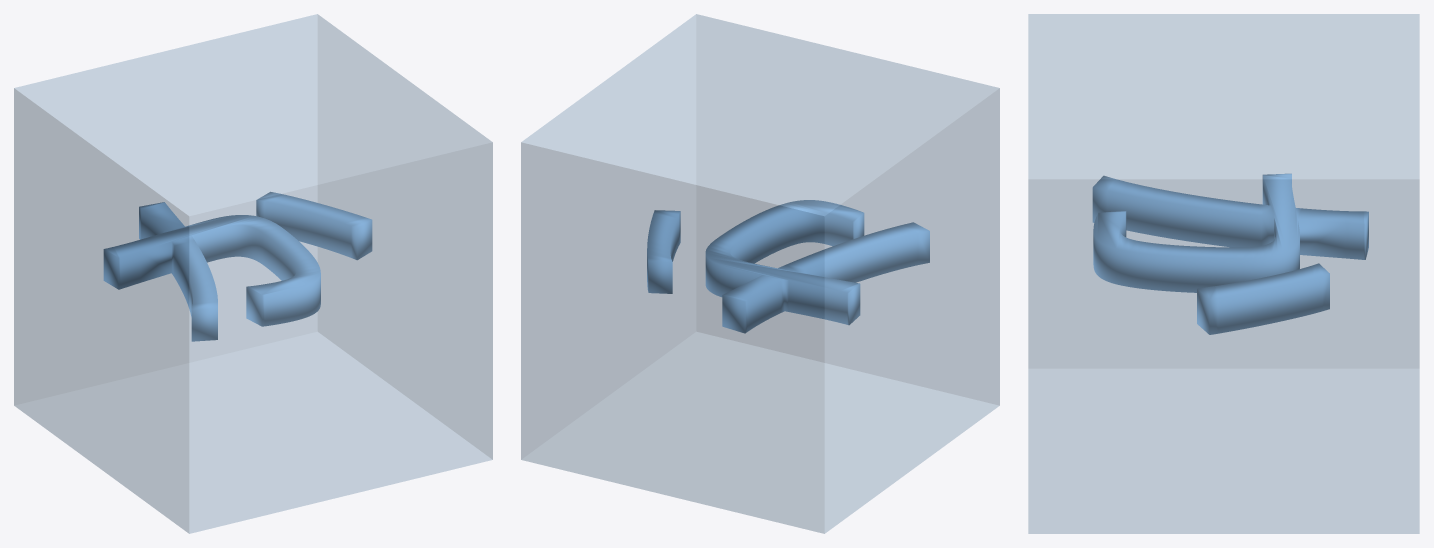
Rendered from Title_Ice8.obj.
3 renders of one model, left to right at view 1: azimuth 30°, elevation 25°; view 2: azimuth 150°, elevation 25°; view 3: azimuth 270°, elevation 25°, orthographic. The views are drawn at different scales.
Visible parts, largest first — view 1: 8.か; view 2: 8.か; view 3: 8.か.
Boxes of the visible parts, x1,y1,x2,y2 form: 8.か: (14,14,492,533); 8.か: (521,14,999,533); 8.か: (1028,14,1419,533).
Size of the model in its own units: 2 by 2 by 2.
1 material, 1 textured.
